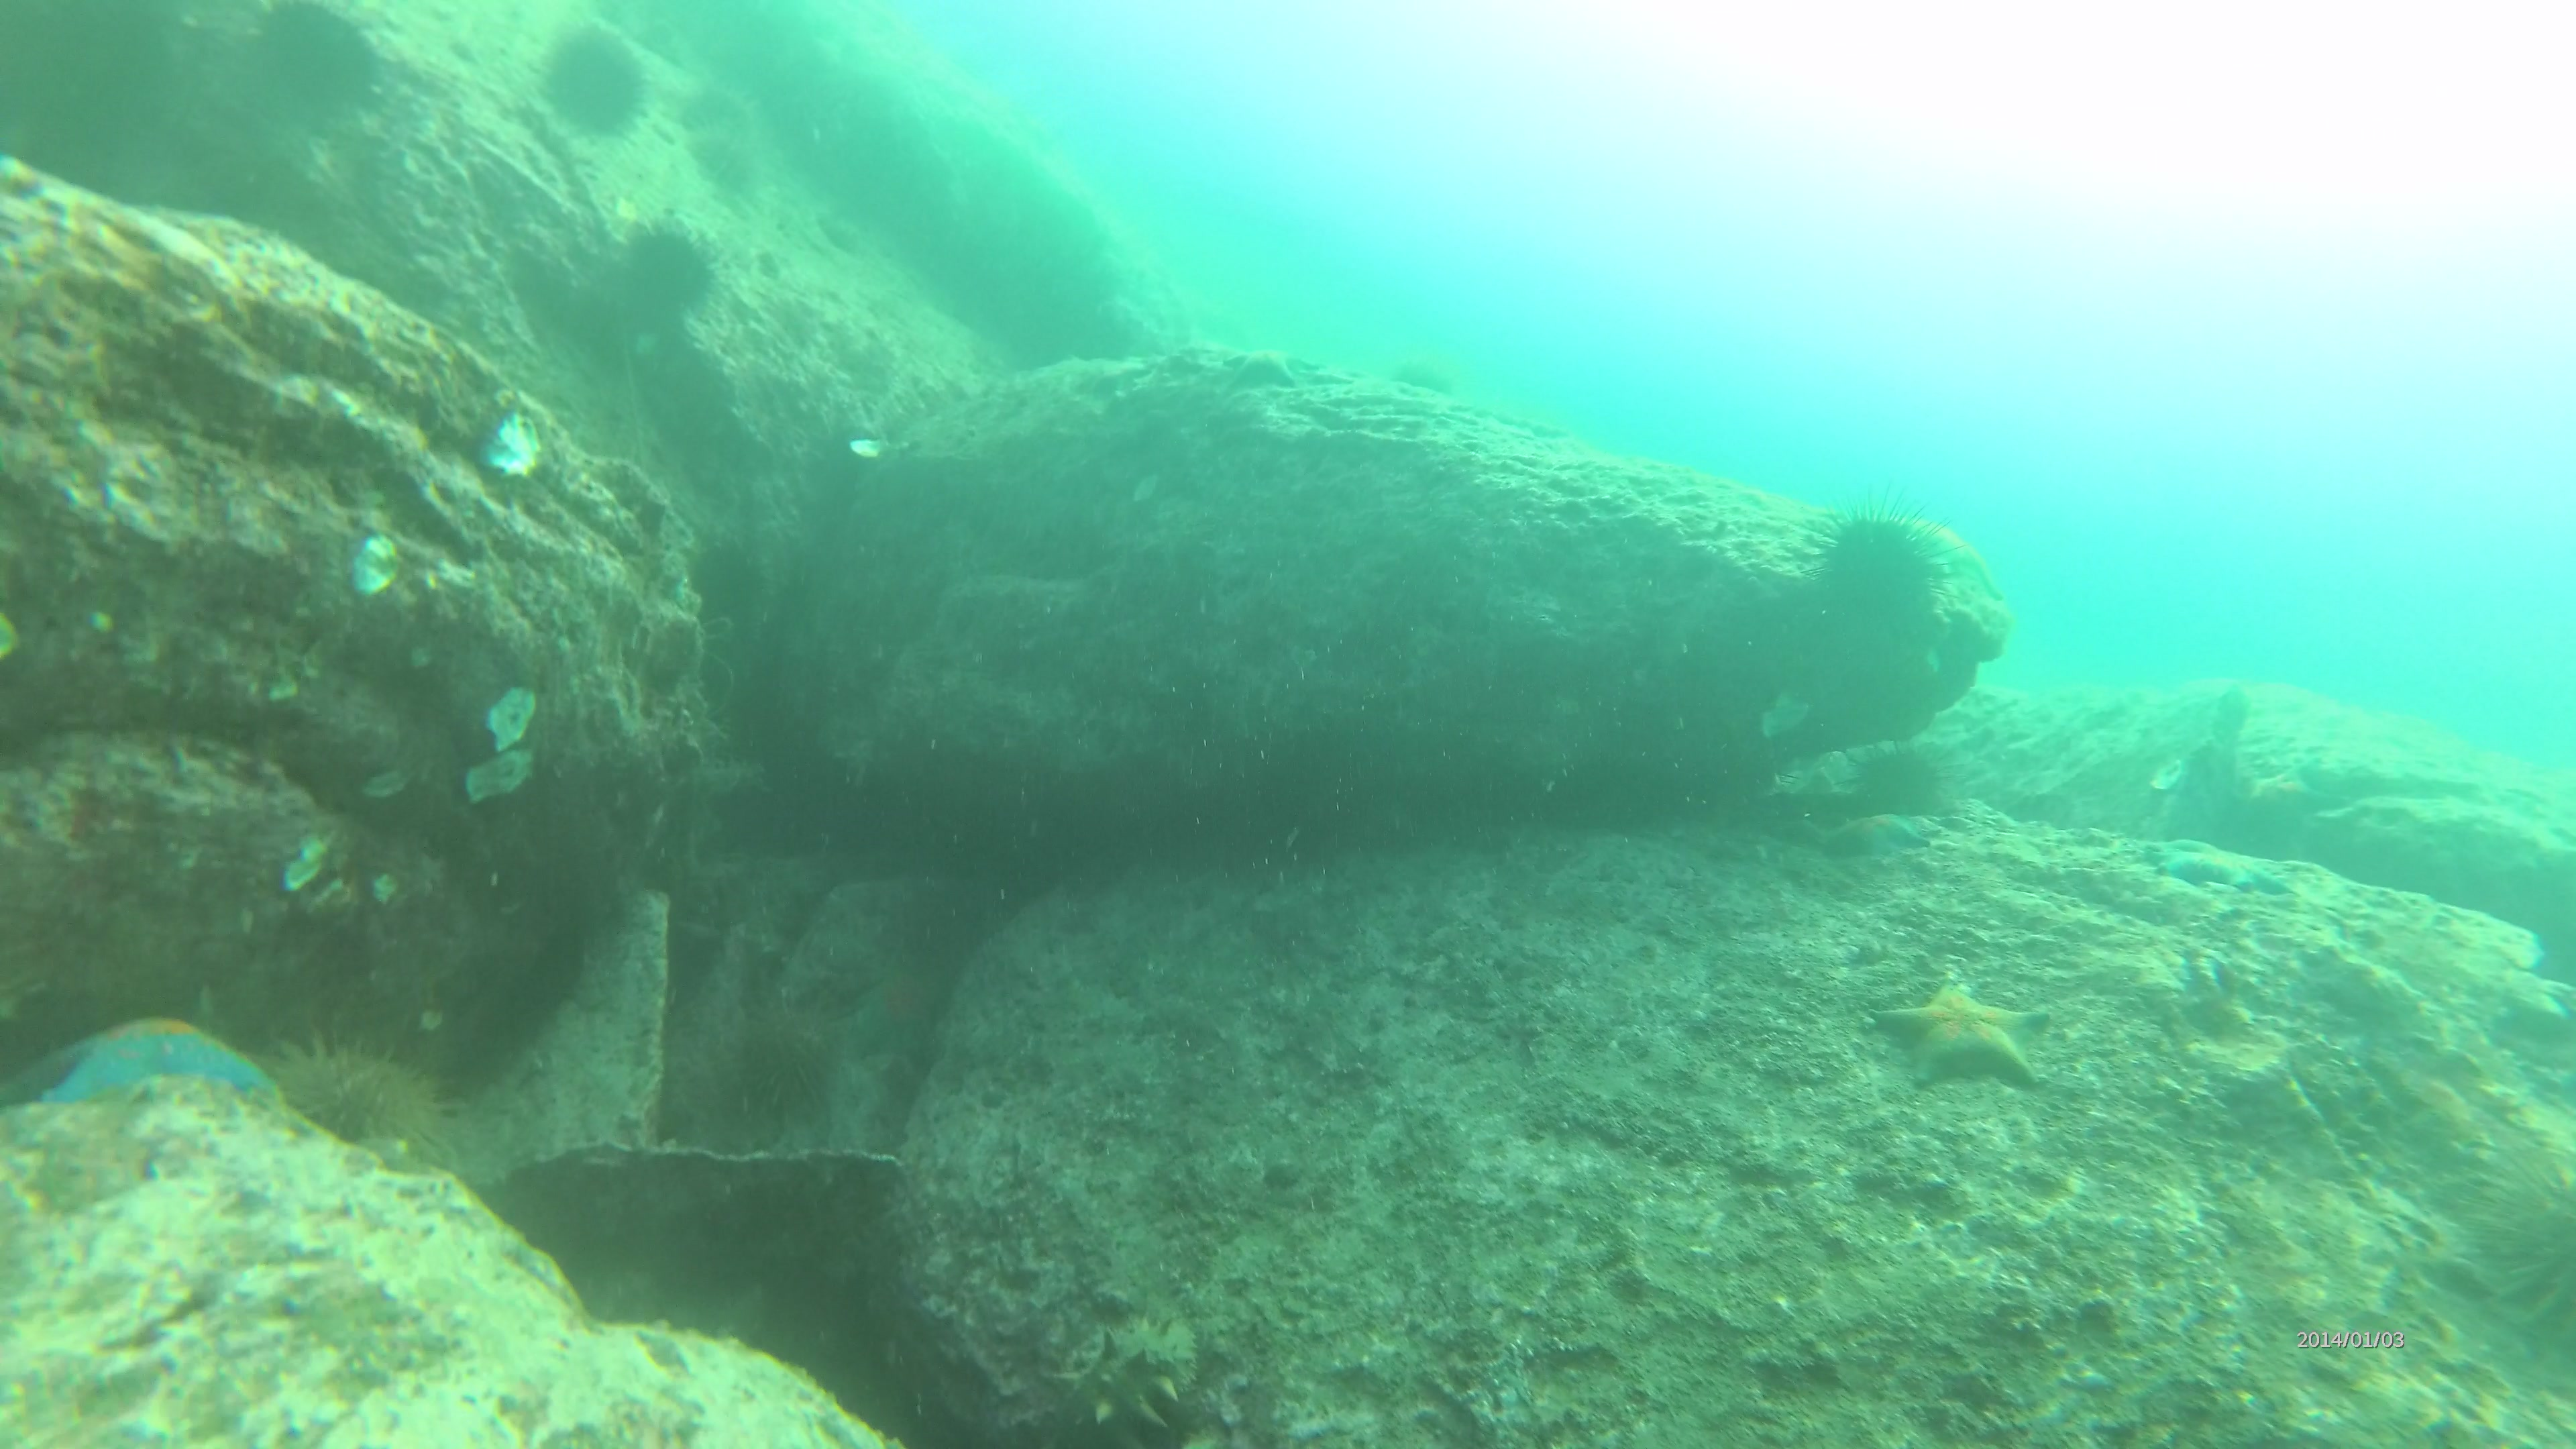echinus: (274, 1046, 464, 1154), (1806, 511, 1946, 648), (725, 998, 842, 1125), (255, 7, 387, 115), (538, 27, 651, 134), (625, 216, 717, 318)
starfish: (4, 1010, 281, 1125), (1879, 966, 2045, 1088), (2148, 828, 2295, 895), (1810, 805, 1936, 863)
